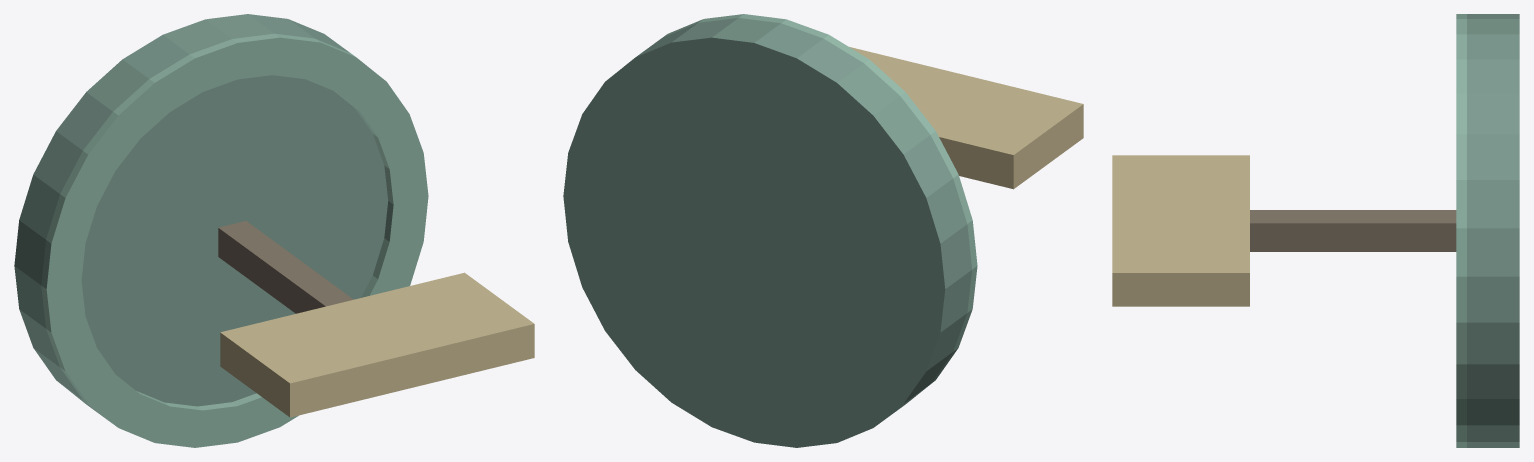
The model's file is chain-station-high.glb.
3 renders of one model, left to right at view 1: azimuth 30°, elevation 25°; view 2: azimuth 150°, elevation 25°; view 3: azimuth 270°, elevation 25°, orthographic.
Visible parts, largest first — view 1: base, ring, sign, post; view 2: base, sign, ring; view 3: base, sign, post, ring.
Boxes of the visible parts, x1=… form: base: x1=14, y1=14, x2=388, y2=421; ring: x1=41, y1=33, x2=428, y2=447; sign: x1=220, y1=272, x2=534, y2=417; post: x1=218, y1=221, x2=353, y2=313; base: x1=563, y1=18, x2=971, y2=447; sign: x1=849, y1=47, x2=1083, y2=189; ring: x1=663, y1=14, x2=977, y2=407; base: x1=1467, y1=14, x2=1519, y2=447; sign: x1=1112, y1=155, x2=1249, y2=306; post: x1=1250, y1=210, x2=1456, y2=251; ring: x1=1456, y1=14, x2=1466, y2=447.
Size of the model in its own units: 1.64 by 1.64 by 1.54.
